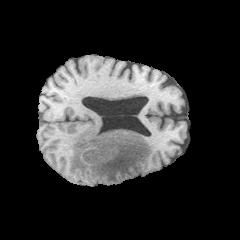glioma: (70, 126, 151, 182)
